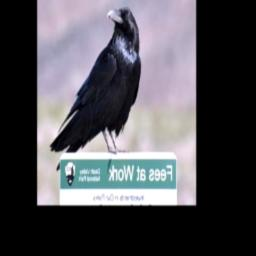Crow: (49, 6, 142, 173)
